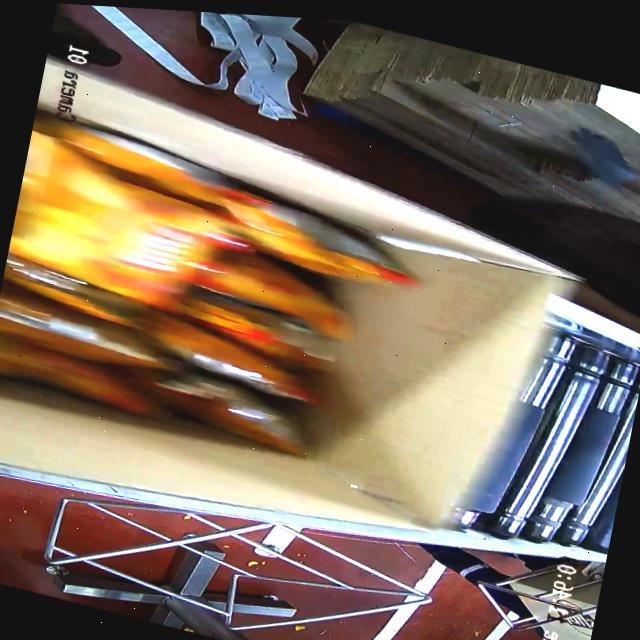FRENCH_CHEESE: (0, 101, 407, 493)
